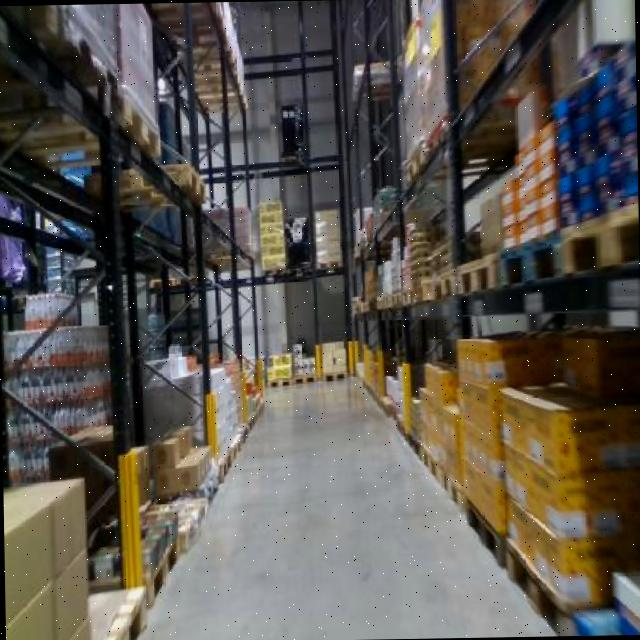pallet: (557, 210, 639, 280), (137, 531, 190, 627), (457, 485, 507, 574), (493, 229, 566, 289), (456, 248, 506, 292), (429, 268, 465, 303), (262, 372, 298, 392), (322, 365, 354, 386), (289, 372, 329, 388)
